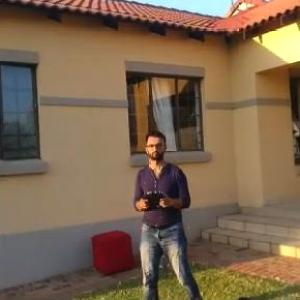follow: (126, 124, 204, 299)
